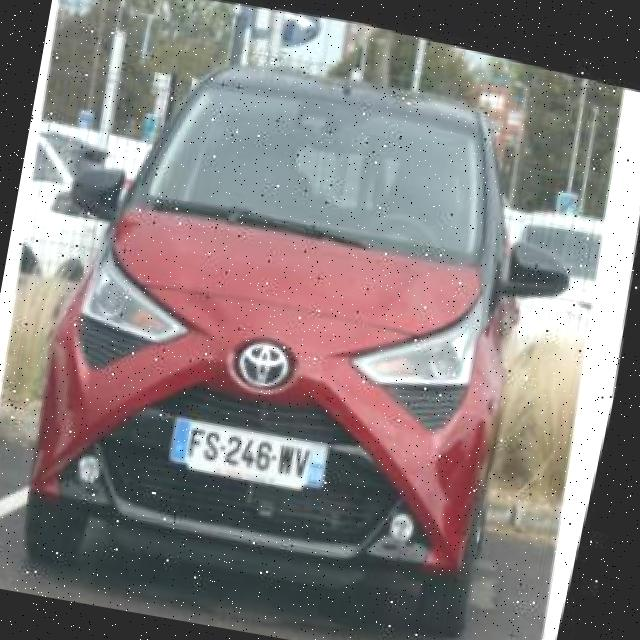EU: (162, 412, 330, 497)
France: (162, 408, 200, 471)
